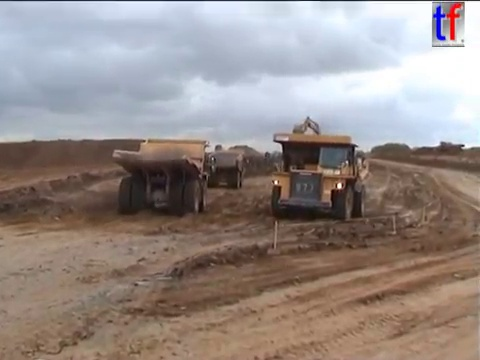excavator: (285, 114, 339, 148)
truck: (263, 131, 371, 223), (110, 137, 217, 216), (206, 148, 250, 190)
